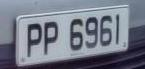1: (112, 10, 122, 48)
6: (68, 17, 85, 54), (98, 13, 113, 48)
9: (84, 13, 100, 54)
P: (25, 17, 45, 61), (41, 16, 61, 60)
